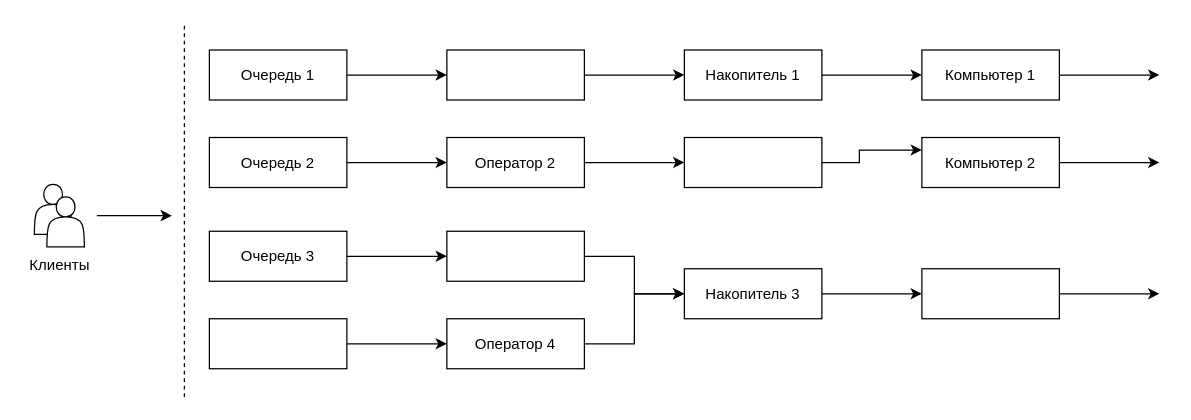
Image size: 1191x420. Some labels were removed from this diagram. Here are the shapes that lost their labels. From the top down, the box of each, then its label:
(446, 49, 584, 100): Оператор 1
(683, 136, 822, 188): Накопитель 2
(446, 230, 584, 281): Оператор 3
(921, 268, 1059, 319): Компьютер 3
(208, 318, 347, 369): Очередь 4
